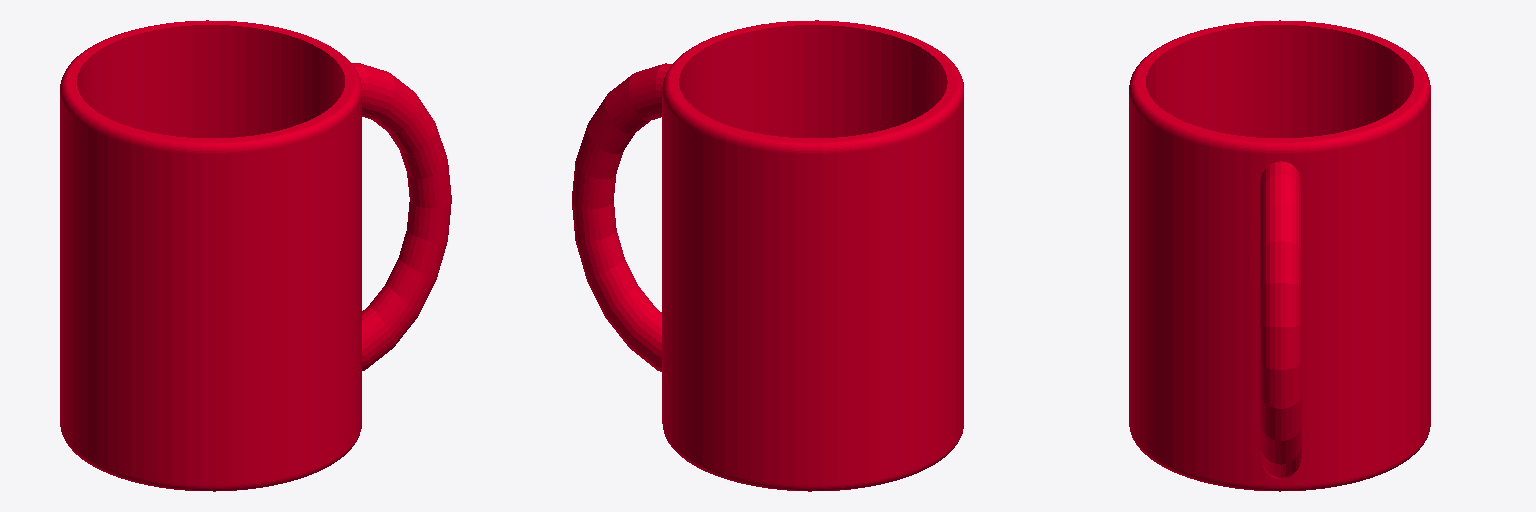
The robot description file, URDF, robot "mug":
<robot name="mug">
	<link name="_name">
		<visual>
			<origin xyz="0.005352706620092641 3.356901039307312e-05 0.011075361589914514" rpy="0 0 0" />
			<geometry>
				<mesh filename="mug.obj" scale="0.8 0.8 0.8" />
			</geometry>
       		<material name="red">
        		<color rgba="0.9 0 0.2 1.0"/>
      		</material>
		</visual>
		<collision>
			<geometry>
				<mesh filename="mug_vhacd.obj" scale="0.8 0.8 0.8" />
			</geometry>
		<origin xyz="0.005352706620092641 3.356901039307312e-05 0.011075361589914514" rpy="0 0 0" /></collision>
		<inertial>
			<mass value="1.0" />
			<inertia ixx="1.0" ixy="0.0" ixz="0.0" iyy="1.0" iyz="0.0" izz="1.0" />
		</inertial>
	</link>
</robot>

--- What the picture shows (computed from the rendered views, not written in the file) ---
3 views of the same robot in one strip: view 1: azimuth 30°, elevation 25°; view 2: azimuth 150°, elevation 25°; view 3: azimuth 270°, elevation 25° (orthographic).
Model mug with 1 links and 0 joints (none), rooted at _name, posed all joints at 0.
Visible links, largest first — view 1: _name; view 2: _name; view 3: _name.
Boxes of the visible links, x1,y1,x2,y2 form: _name: [60, 20, 451, 491]; _name: [572, 20, 963, 491]; _name: [1129, 20, 1430, 491].
Size in the robot's own frame: 0.0734 by 0.052 by 0.0662 metres.
Meshes: 1 distinct files referenced, 1 mesh visuals loaded (1 OBJ).
